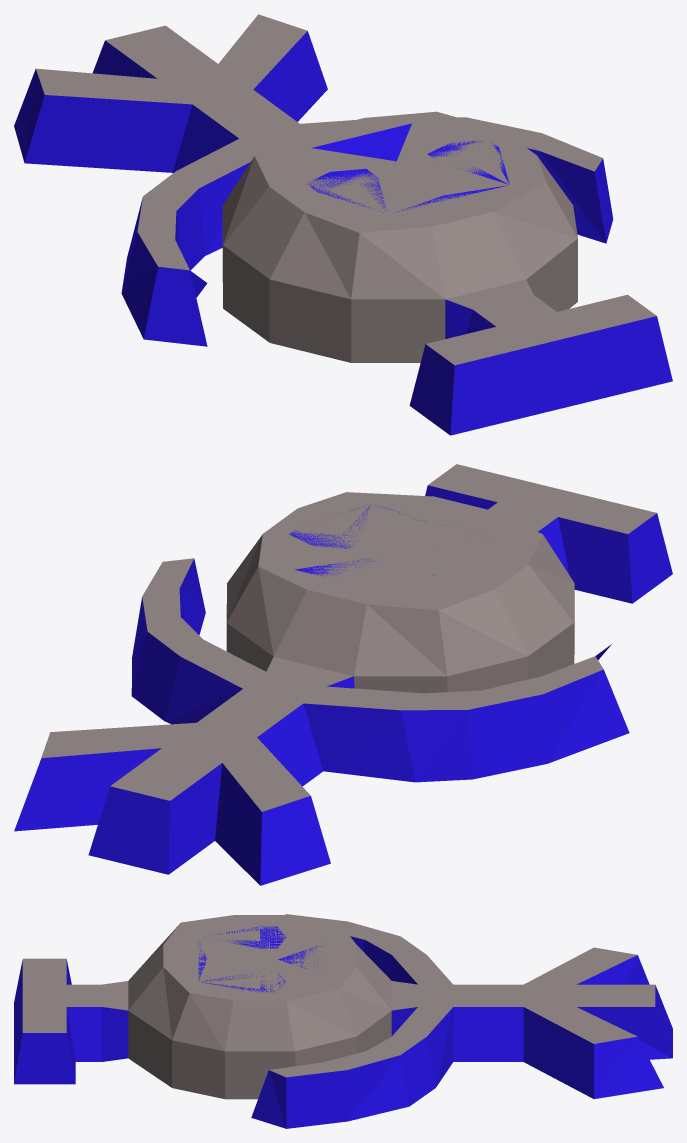
The model's file is inv_law_talisman.obj.
3 views of the same model, one above another, from view 1: azimuth 30°, elevation 25°; view 2: azimuth 150°, elevation 25°; view 3: azimuth 270°, elevation 25° (orthographic). The views are drawn at different scales.
Bounding box in the file's own units: 0.3672 × 0.0859 × 0.5859.
